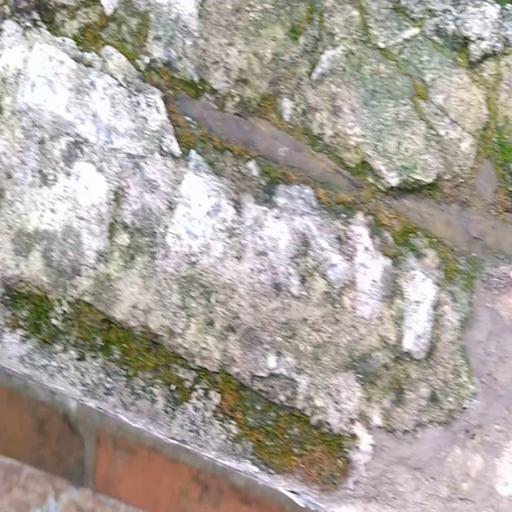spalling: (15, 0, 512, 474)
